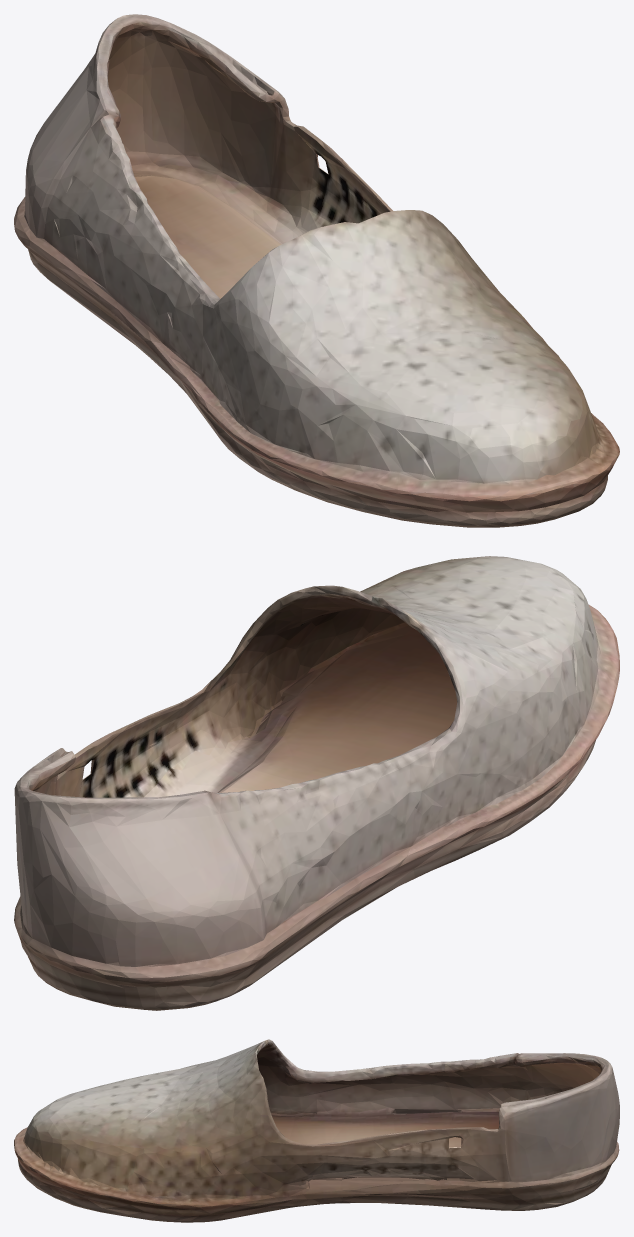
The picture shows the model from 3 angles, top to bottom: view 1: azimuth 30°, elevation 25°; view 2: azimuth 150°, elevation 25°; view 3: azimuth 270°, elevation 25°; orthographic projection. The views are drawn at different scales.
Visible parts, largest first — view 1: geometry_0; view 2: geometry_0; view 3: geometry_0.
Part boxes in pixels (left/top/right/bottom): geometry_0: left=14, top=14, right=619, bottom=527; geometry_0: left=14, top=556, right=619, bottom=1010; geometry_0: left=14, top=1039, right=619, bottom=1222.
Bounding box in the file's own units: 0.3611 × 0.2445 × 1.
1 material, 1 textured.
